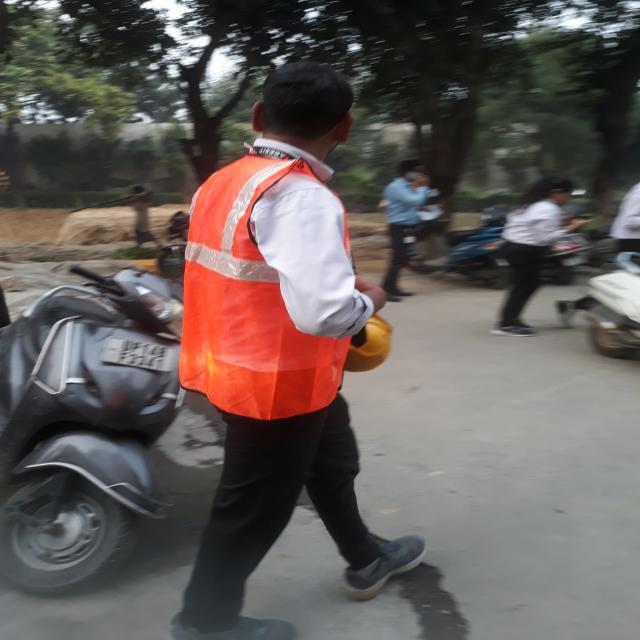unsafe: (146, 54, 389, 640), (476, 174, 578, 343)
